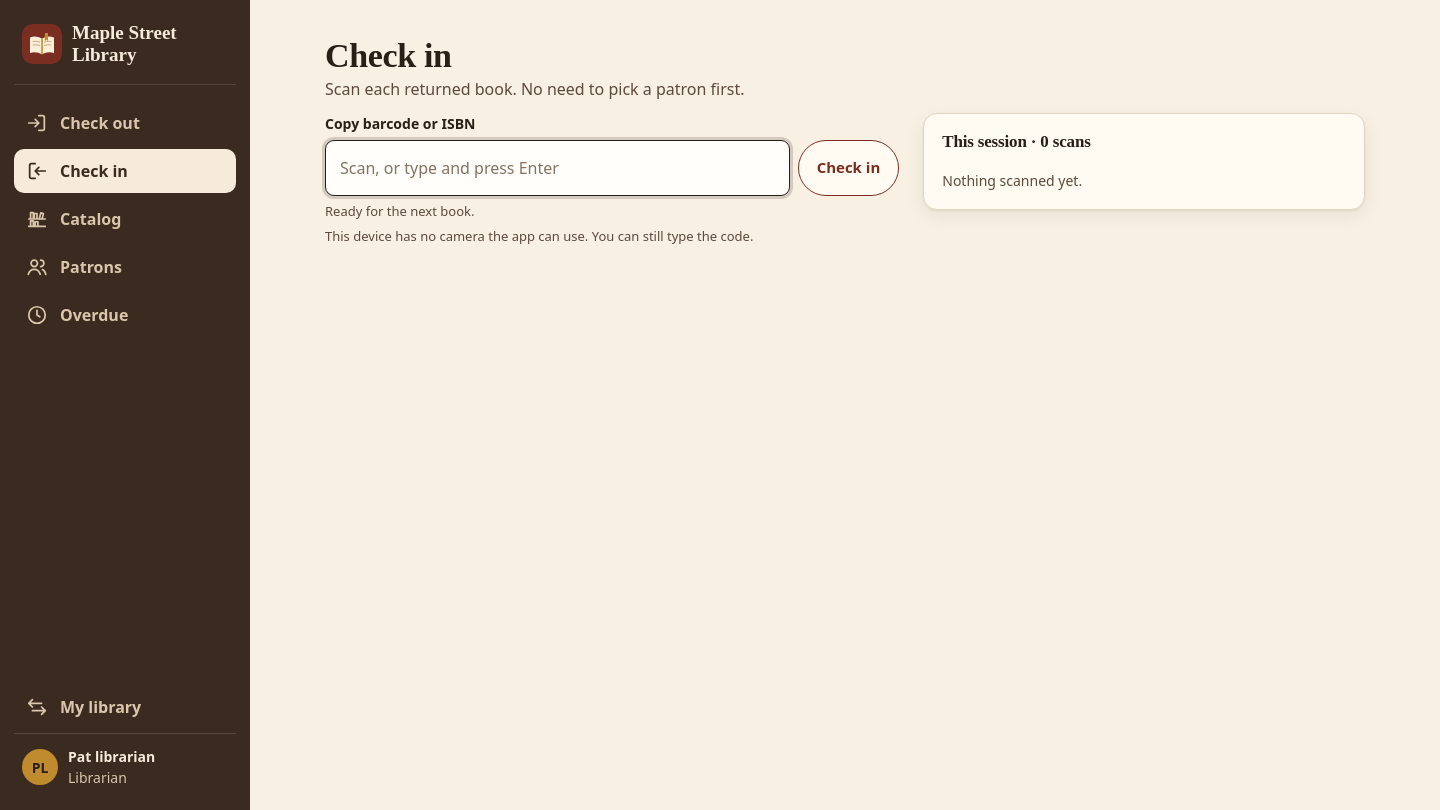
Test: CIRC-2 Check in › Return: one day late is not '1 days'
In the field: x=557, y=168 [325,140,790,196], type "C-000033"
Then press Enter
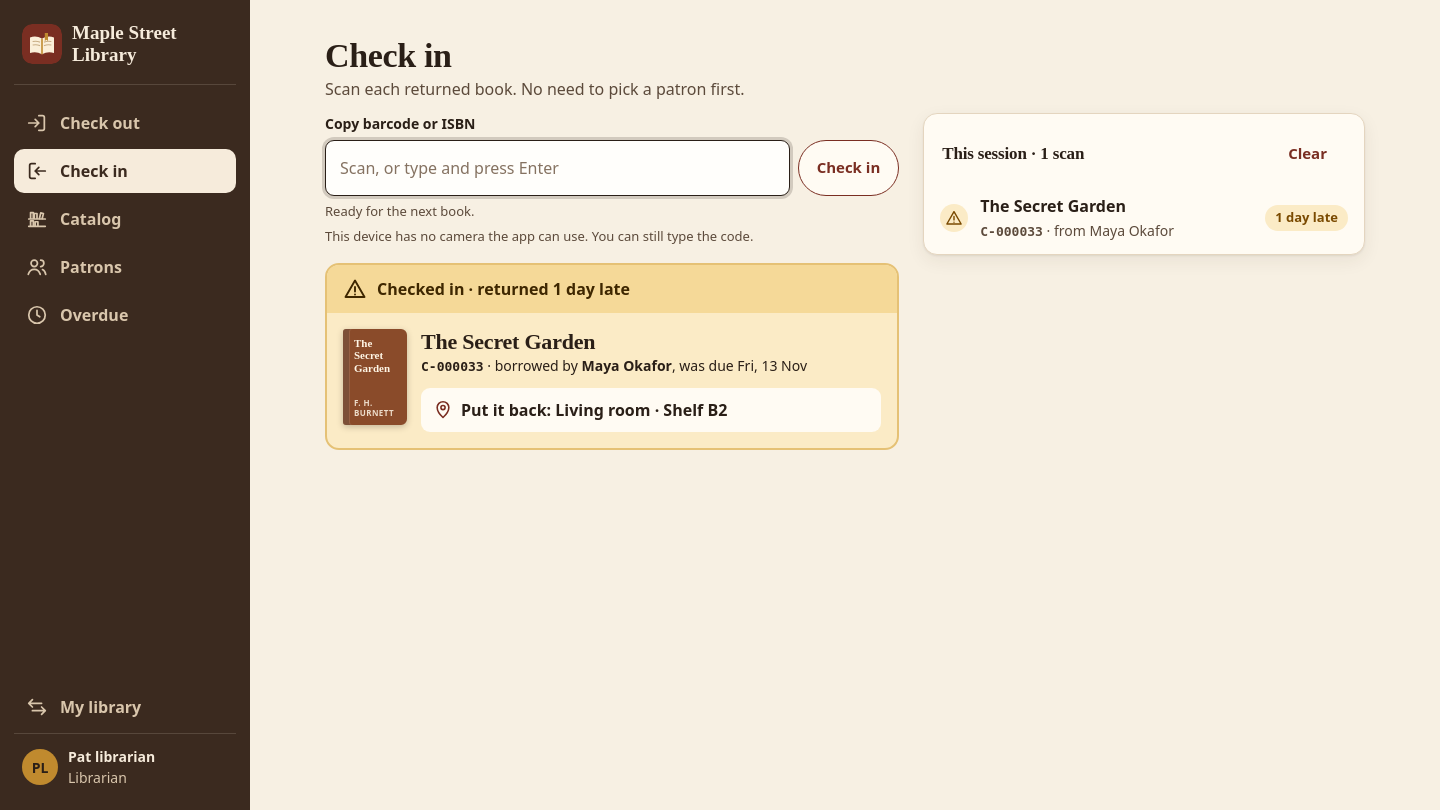
Now the message named "Latest scan" shows "returned 1 day late", box [377,278,630,300]
